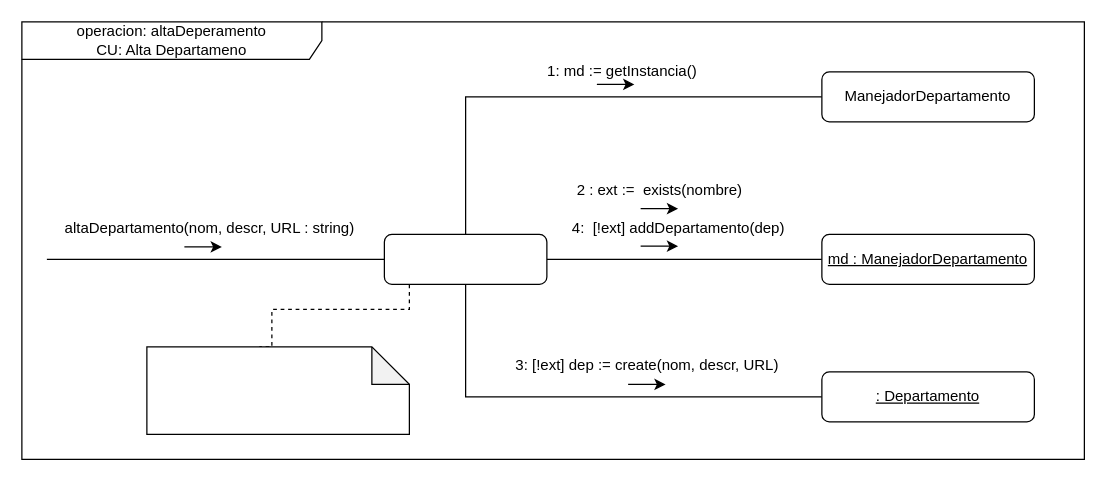
Image size: 1106x481. Some labels were removed from this diagram. The centre of each missing label's shape, as x and y in pixels:
: ControladorActividad: point 465,258
si ext = true se lanza la excepcion DeparamentoYaRegistradoException: point 277,390
